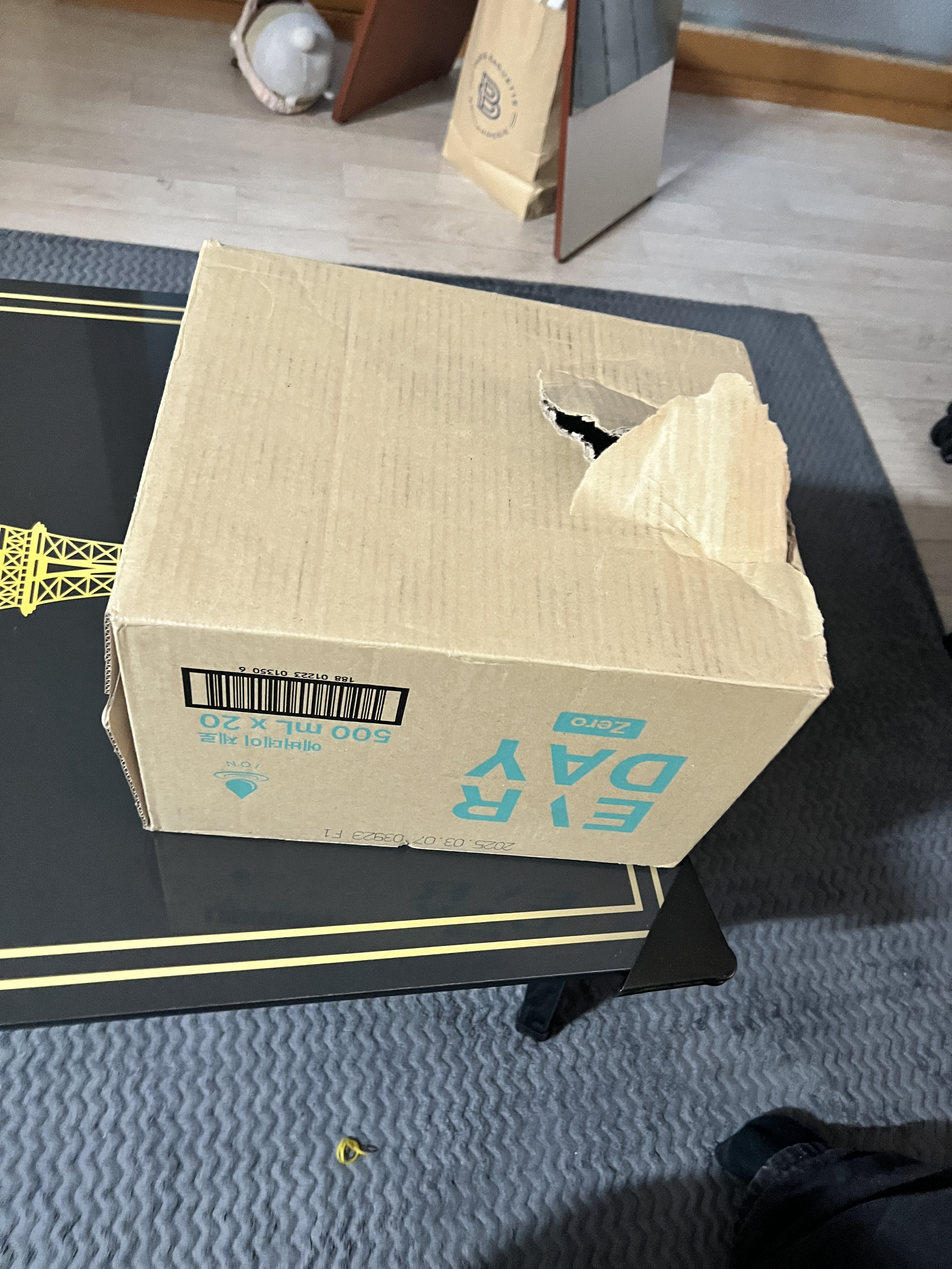damaged package: (541, 350, 820, 625)
